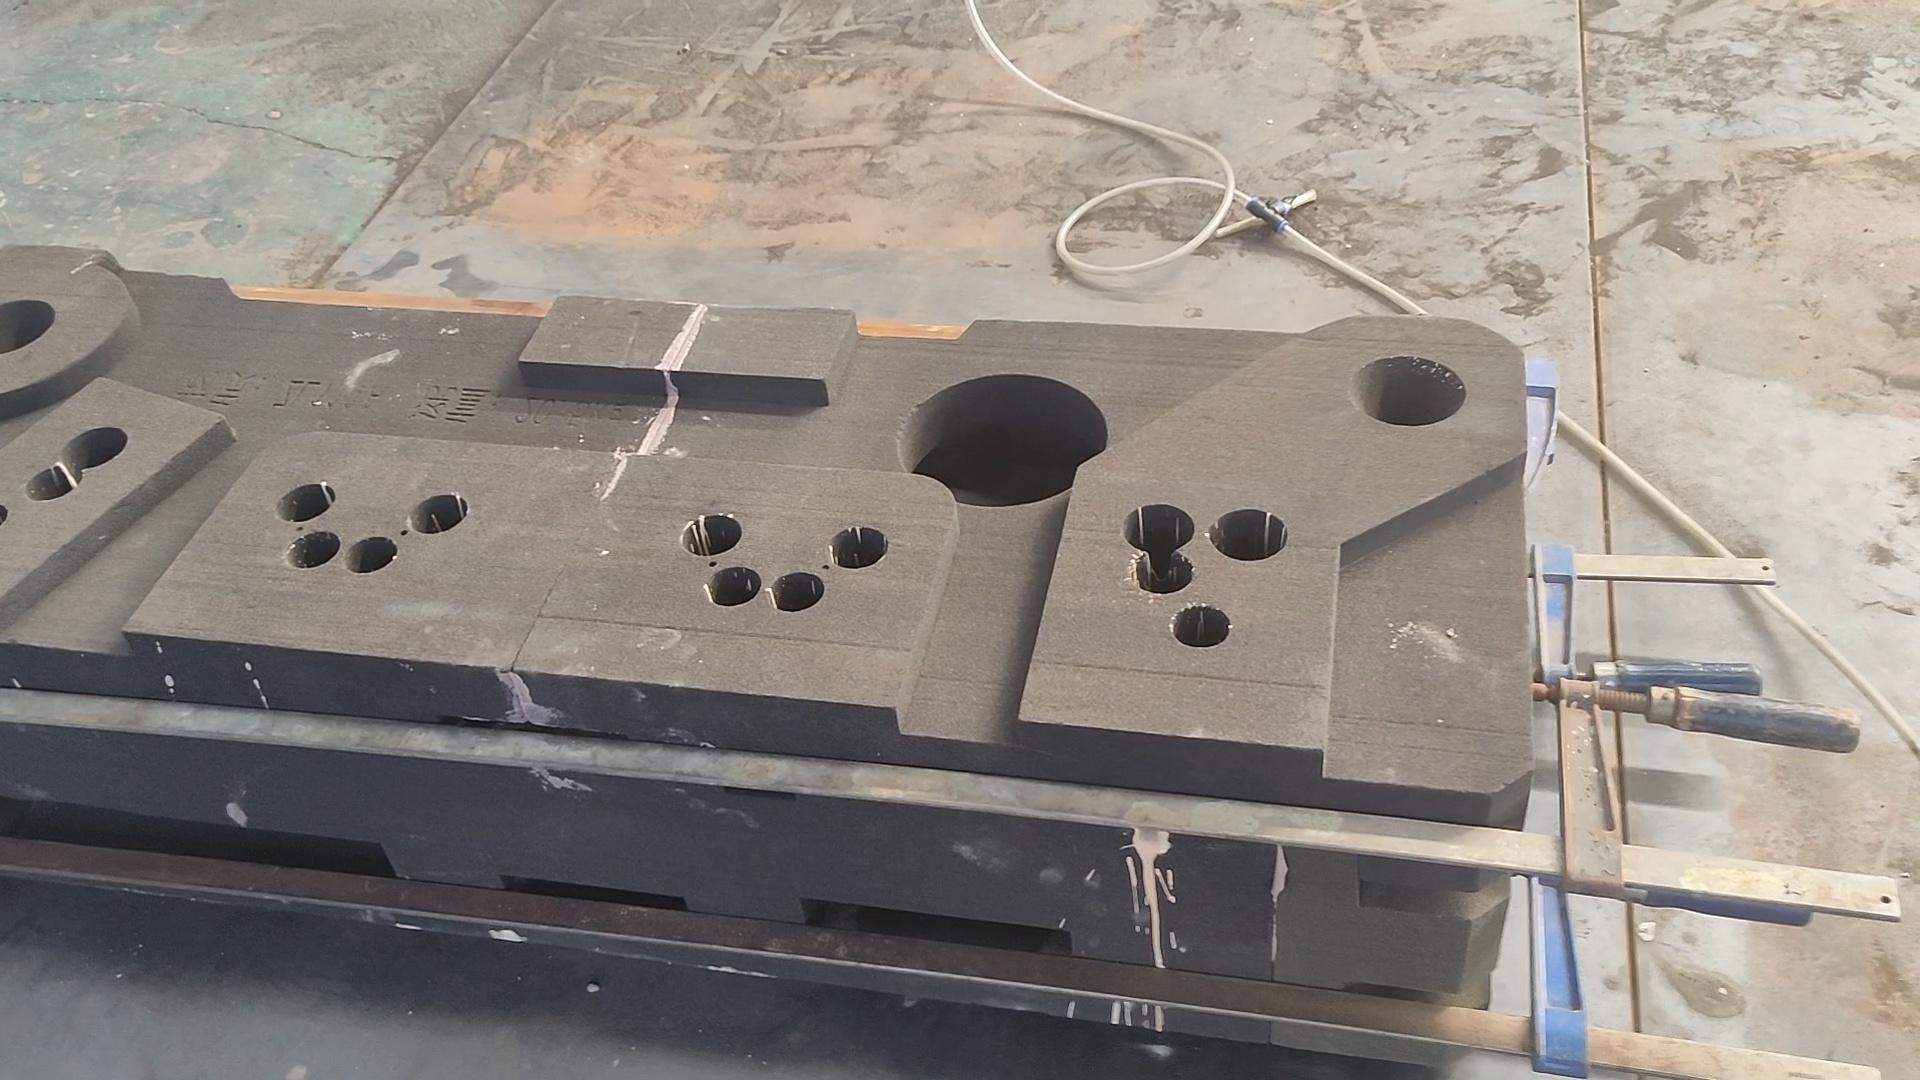pouring hole: (1348, 353, 1468, 429), (1, 297, 55, 356)
